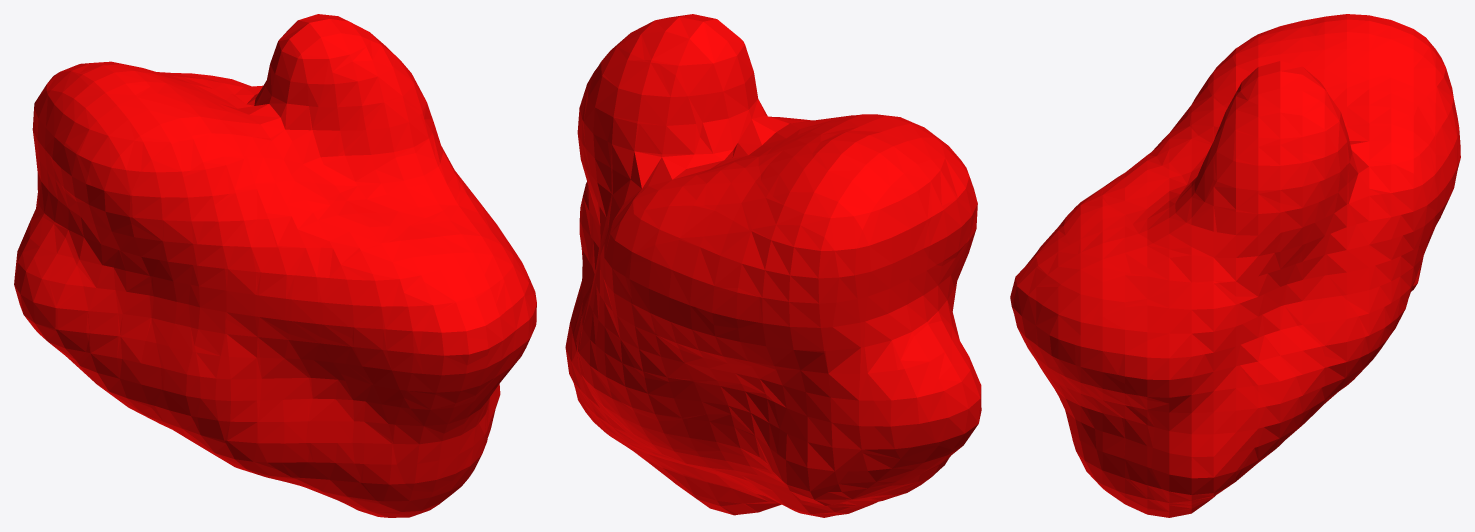
The model's file is yecF_coarse.dae.
3 views of the same model, side by side, from view 1: azimuth 30°, elevation 25°; view 2: azimuth 150°, elevation 25°; view 3: azimuth 270°, elevation 25° (orthographic). The views are drawn at different scales.
Visible parts, largest first — view 1: yecF; view 2: yecF; view 3: yecF.
Boxes of the visible parts, bbox=[...] form: yecF: bbox=[14, 14, 536, 517]; yecF: bbox=[565, 14, 981, 517]; yecF: bbox=[1010, 14, 1460, 517].
Size of the model in its own units: 34.18 by 36.42 by 33.91.
